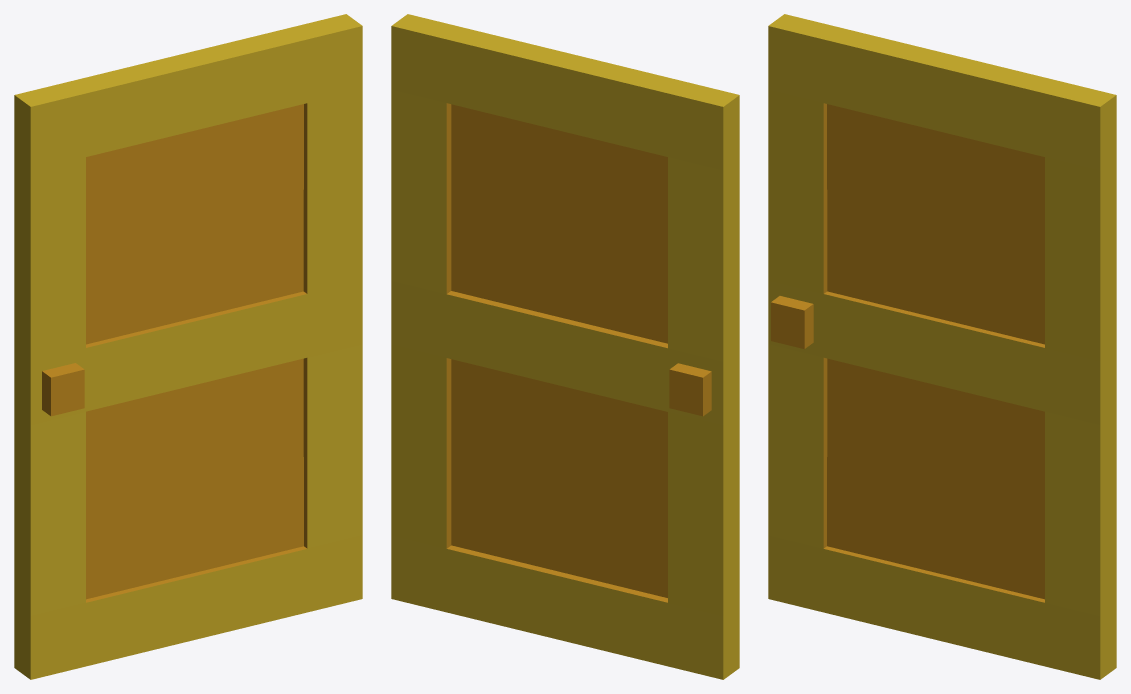
The model's file is nextLevelDoor.fbx.
3 views of the same model, side by side, from view 1: azimuth 30°, elevation 25°; view 2: azimuth 150°, elevation 25°; view 3: azimuth 330°, elevation 25° (orthographic).
Parts seen in each view (by area): view 1: Cube.003; view 2: Cube.003; view 3: Cube.003.
Part boxes in pixels (x1,y1,x2,y2): Cube.003: (14, 14, 362, 679); Cube.003: (391, 14, 739, 679); Cube.003: (768, 14, 1116, 679).
Size of the model in its own units: 5.46 by 9 by 0.9687.
